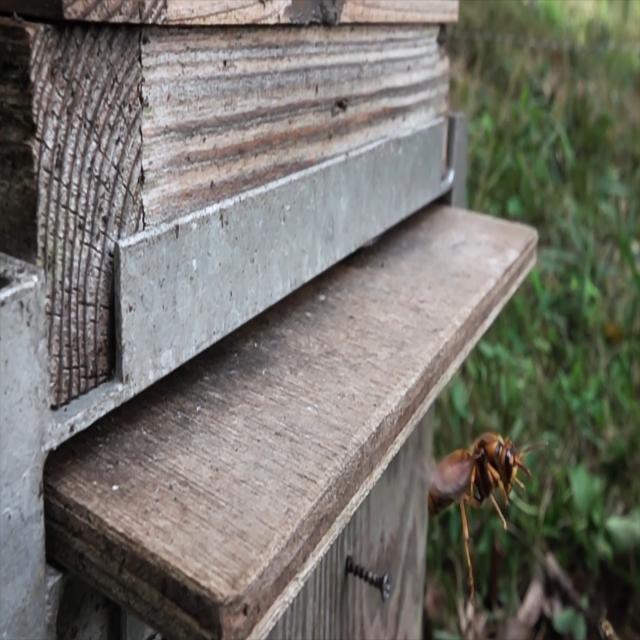Hornets: (428, 428, 548, 604)
